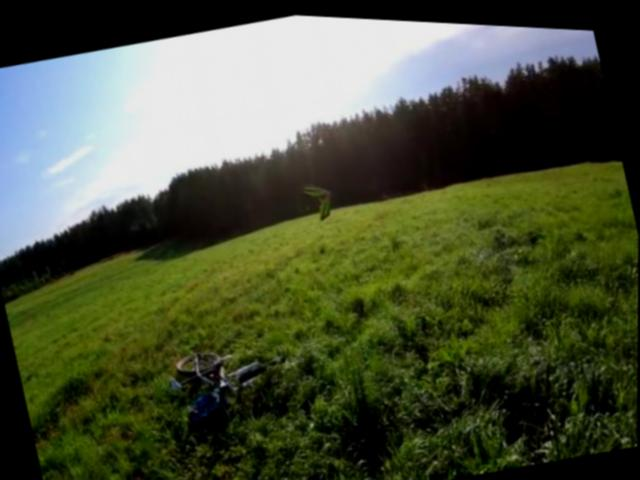flying wing: (301, 174, 337, 220)
